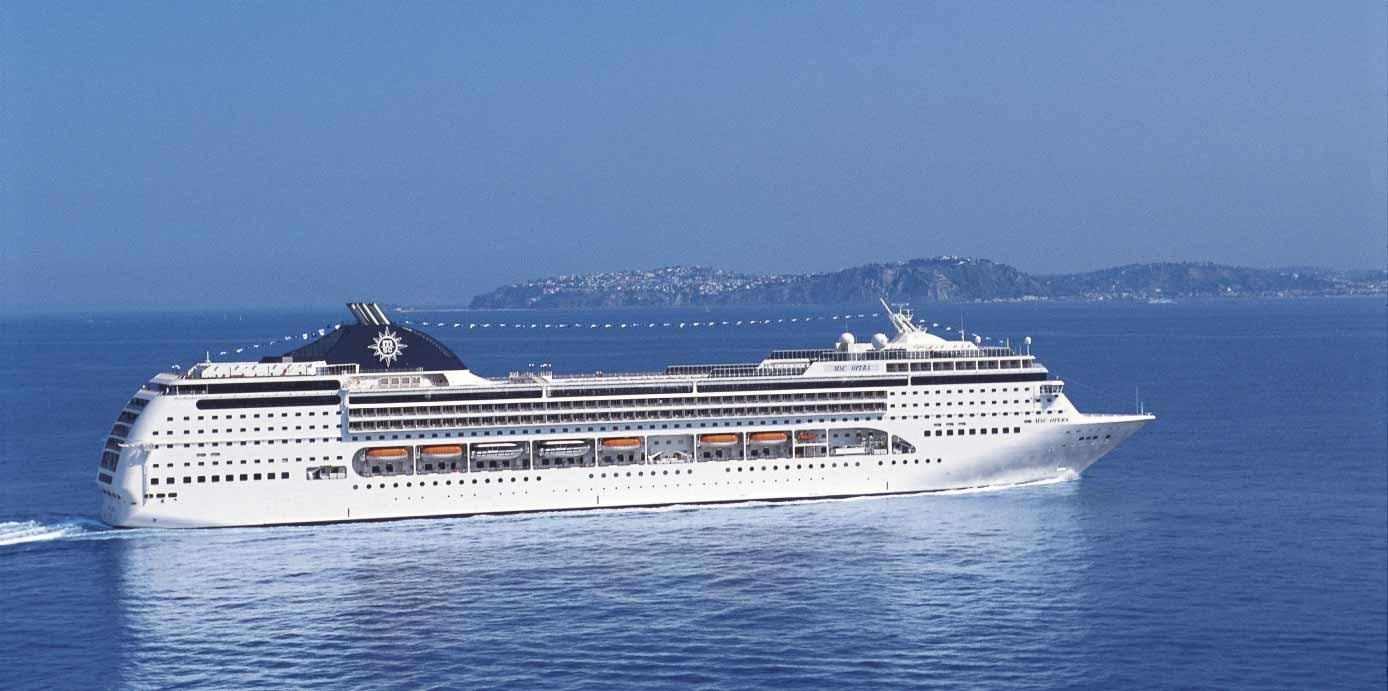youlun: (94, 286, 1163, 538)
